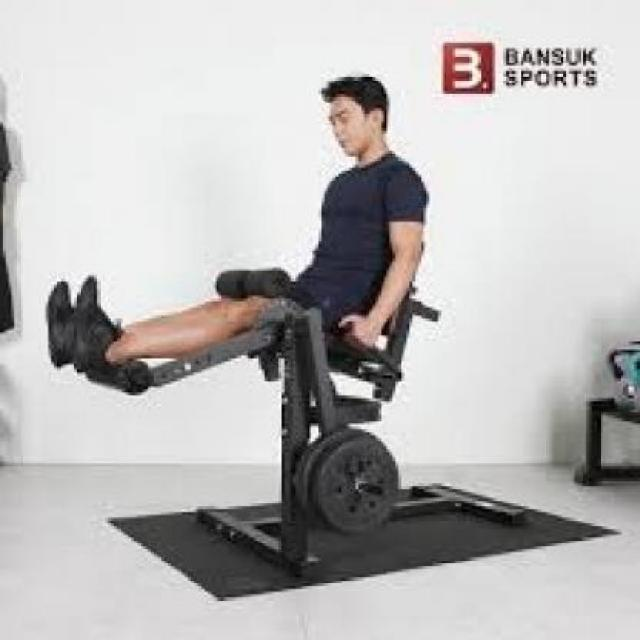leg extension: (78, 237, 528, 580)
